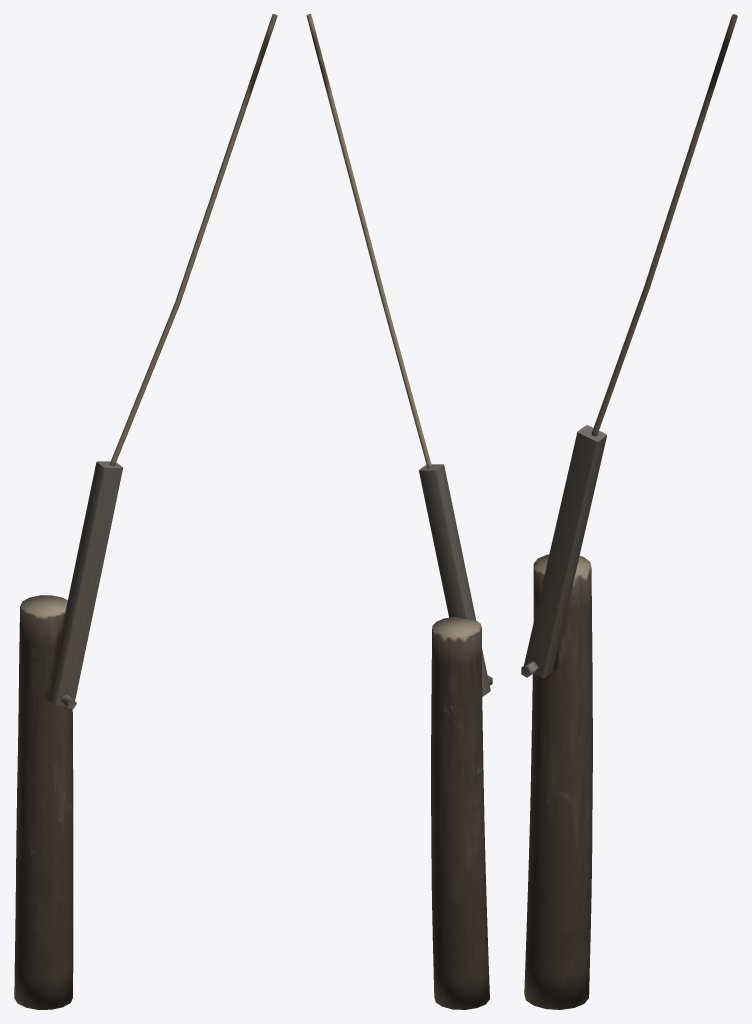
The model's file is SM_SiegeGate_Lever.fbx.
The picture shows the model from 3 angles, left to right: view 1: azimuth 30°, elevation 25°; view 2: azimuth 150°, elevation 25°; view 3: azimuth 330°, elevation 25°; orthographic projection. The views are drawn at different scales.
Visible parts, largest first — view 1: SM_SiegeGate_Lever; view 2: SM_SiegeGate_Lever; view 3: SM_SiegeGate_Lever.
Boxes of the visible parts, x1,y1,x2,y2 form: SM_SiegeGate_Lever: (14, 14, 277, 1009); SM_SiegeGate_Lever: (306, 14, 492, 1009); SM_SiegeGate_Lever: (521, 14, 737, 1009).
Size of the model in its own units: 114 by 45.79 by 468.
